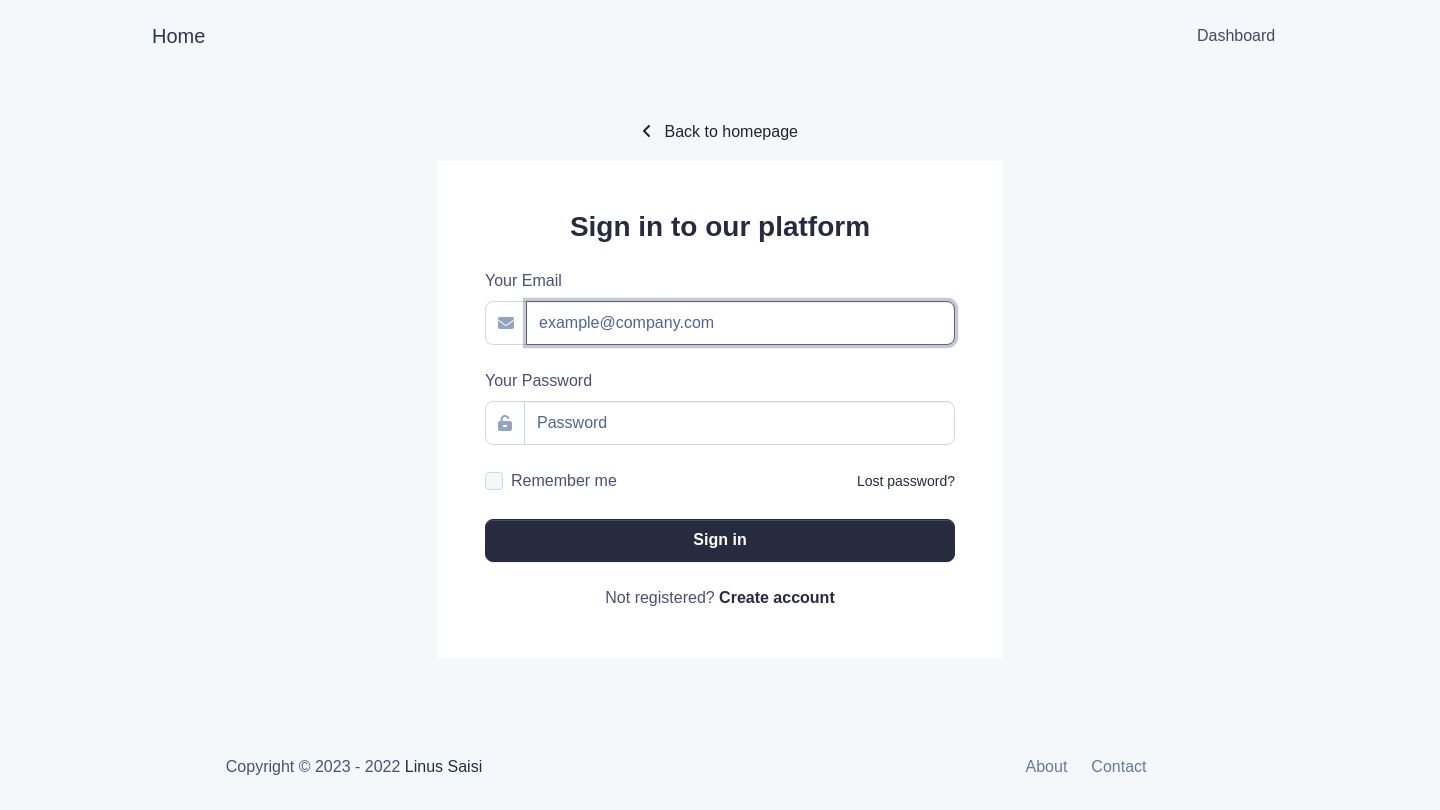
Scenario: Login › back home link works
Click the link "Back to homepage" at {"x": 720, "y": 132}, box [642,123,798,140]
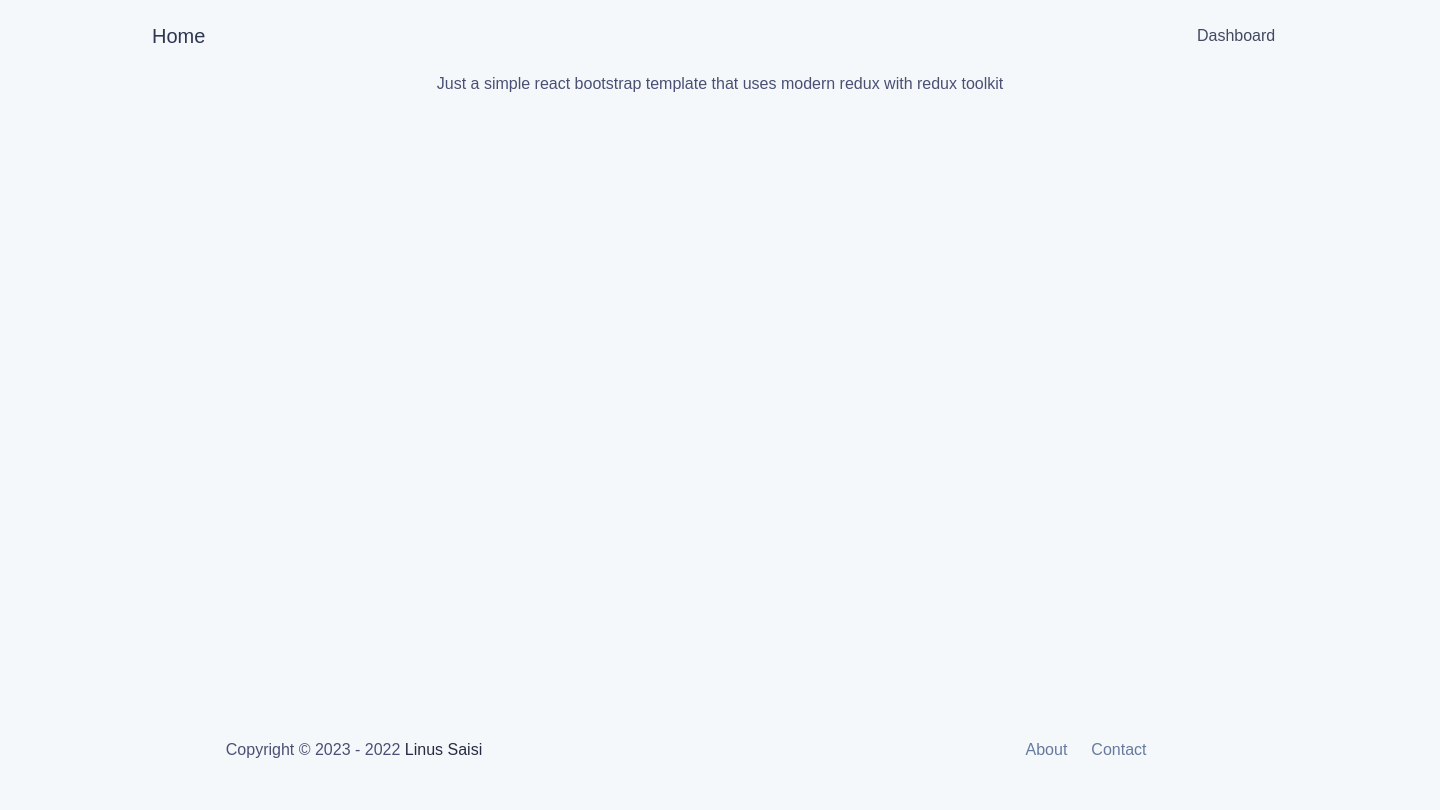
Now the text "Just a simple react bootstrap" is shown, box [437,75,1003,92]
